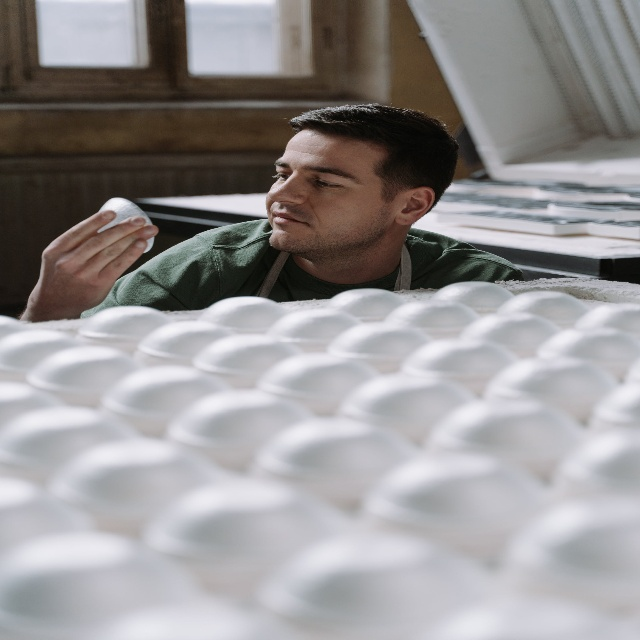Sin_guantes: (36, 209, 159, 316)
